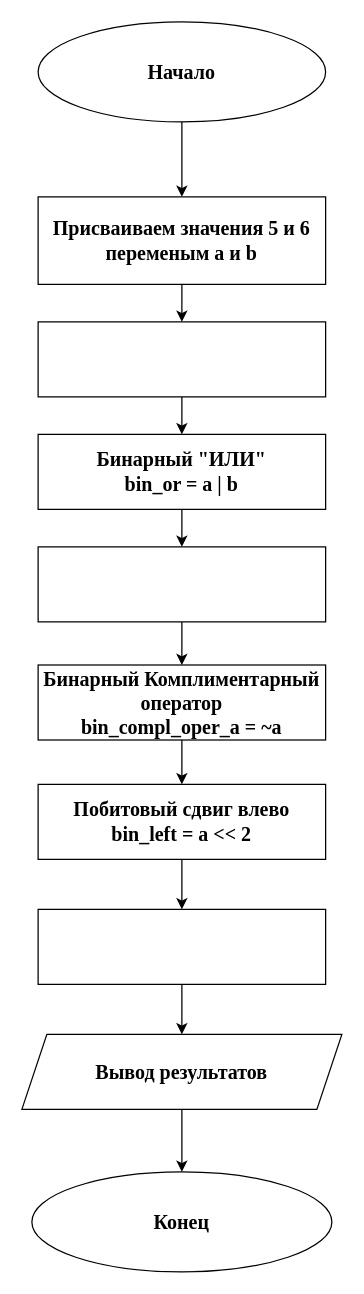
This 364x1294 diagram has some shape labels left out. The shapes that lost their labels are listed below. From the top down, each one's centre as x and y in pixels, then its label:
(x=181, y=359): Бинарный "И" bin_and = a & b
(x=181, y=584): Бинарное "Исключительное ИЛИ" bin_except_or = a ^ b
(x=181, y=946): Побитовый сдвиг вправо bin_right = a >> 2
